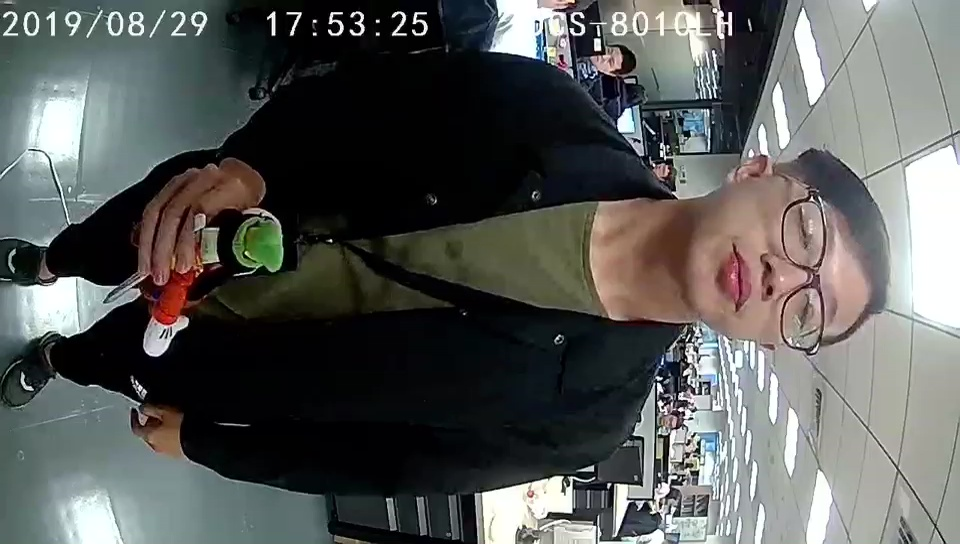goofy: (140, 202, 288, 358)
